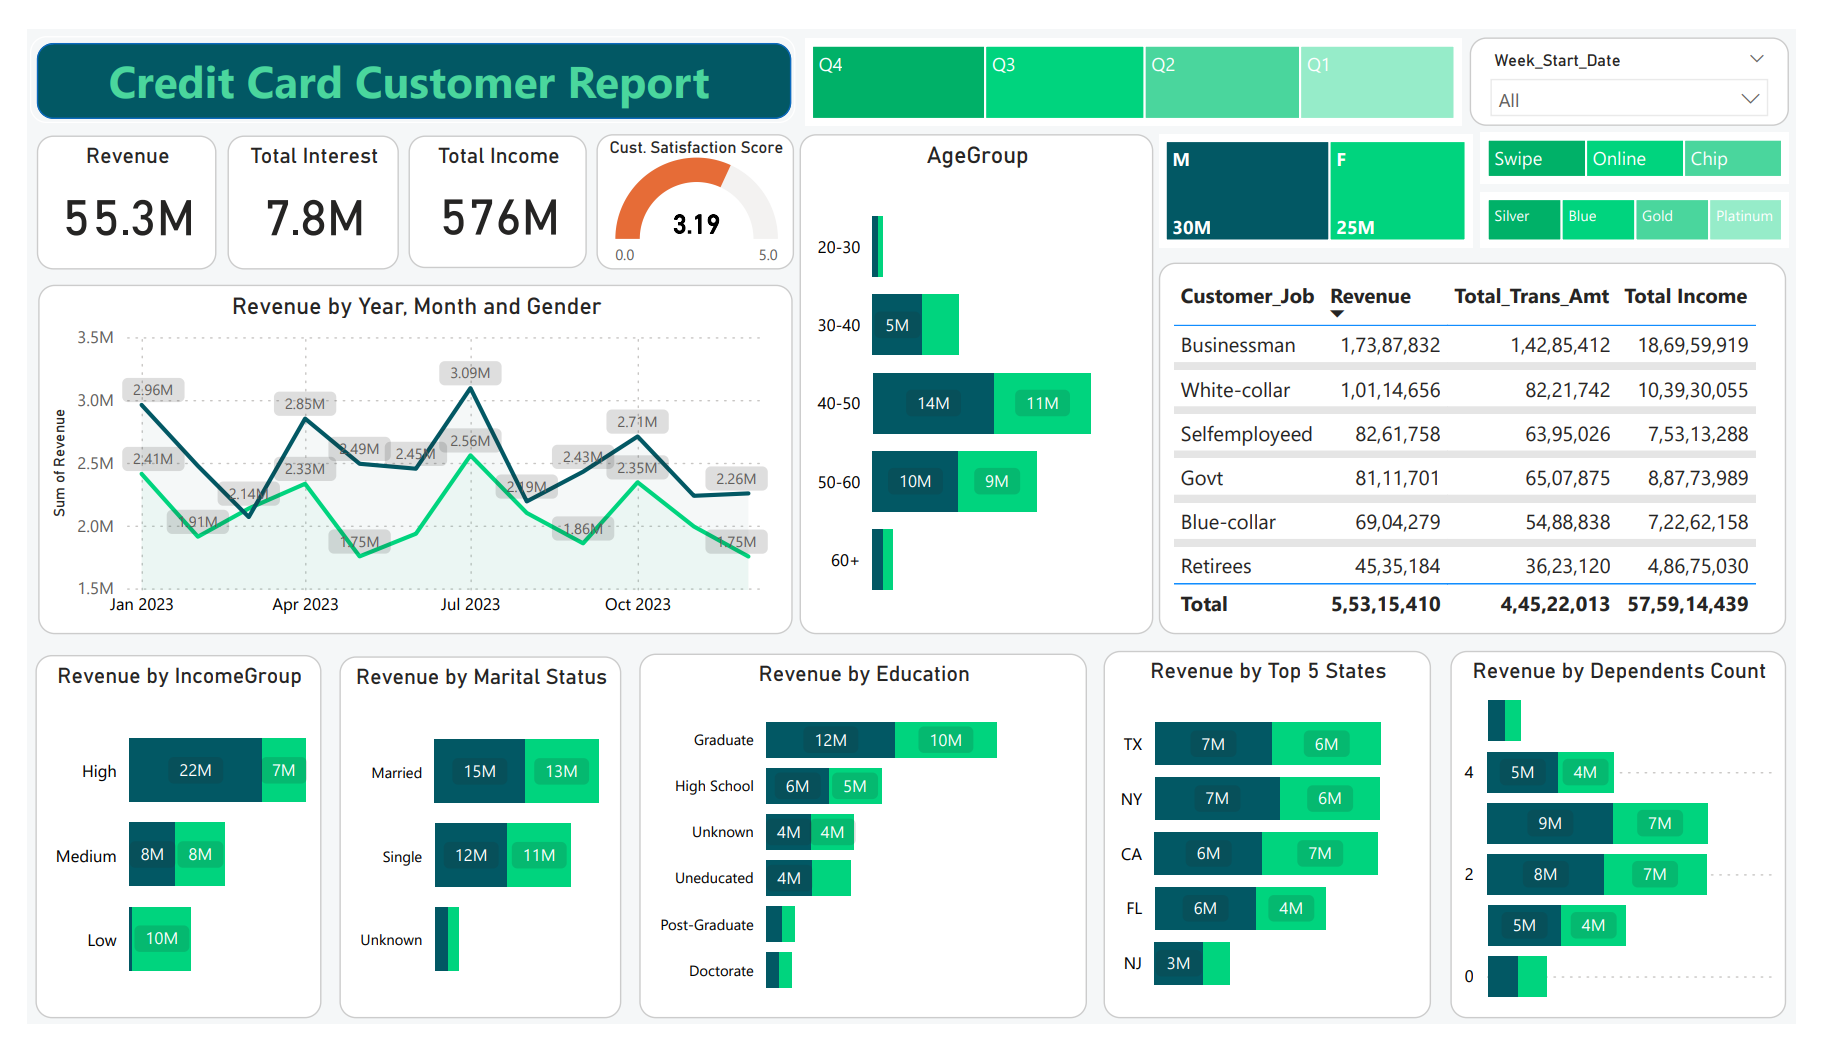

The dashboard page shown, as its layout file describes it:
{"tool":"powerbi","page":{"name":"Customer Report ","canvas":[1280,720],"ordinal":1},"visuals":[{"type":"card","title":"Revenue","fields":{"Values":["Sum(credit_card.Revenue)"]},"box":[7.3,76.6,130.1,97.3],"z":0},{"type":"tableEx","fields":{"Values":["customer.Customer_Job","Sum(credit_card.Revenue)","Sum(credit_card.Total_Trans_Amt)","Sum(customer.Income)"]},"box":[818.8,168.8,453.8,268.8],"z":1000},{"type":"treemap","fields":{"Group":["credit_card.Qtr"],"Values":["Avg(credit_card.Client_Num)"]},"box":[562.8,7,475.6,62.8],"z":2000},{"type":"barChart","title":"Revenue by IncomeGroup","fields":{"Category":["customer.IncomeGroup"],"Y":["Sum(credit_card.Revenue)"],"Series":["customer.Gender"]},"box":[5.6,452.8,207.2,263.3],"z":3000},{"type":"slicer","fields":{"Values":["credit_card.Week_Start_Date"]},"box":[1043.5,5.9,231.8,64.1],"z":4000},{"type":"card","title":"Total Interest","fields":{"Values":["Sum(credit_card.Interest_Earned)"]},"box":[145.3,76.7,123.3,97],"z":5000},{"type":"card","title":"Total Income","fields":{"Values":["Sum(customer.Income)"]},"box":[275.6,76.7,129.1,96.5],"z":6000},{"type":"treemap","fields":{"Group":["credit_card.Use Chip"],"Values":["Avg(credit_card.Client_Num)"]},"box":[1051.5,75.4,223.8,36.9],"z":7000},{"type":"treemap","fields":{"Group":["credit_card.Card_Category"],"Values":["Avg(credit_card.Client_Num)"]},"box":[1051.5,117.7,223.8,40],"z":8000},{"type":"gauge","title":"Cust. Satisfaction Score","fields":{"Y":["Avg(customer.Cust_Satisfaction_Score)"]},"box":[412.1,76.4,142.9,97.1],"z":9000},{"type":"areaChart","title":"Revenue by Year, Month and Gender","fields":{"Category":["credit_card.Week_Start_Date.Variation.Date Hierarchy.Year","credit_card.Week_Start_Date.Variation.Date Hierarchy.Month","credit_card.Week_Start_Date.Variation.Date Hierarchy.Day"],"Y":["Sum(credit_card.Revenue)"],"Series":["customer.Gender"]},"box":[7.5,185,546.2,252.5],"z":10000},{"type":"treemap","fields":{"Group":["customer.Gender"],"Values":["Sum(credit_card.Revenue)"]},"box":[818.8,76.2,227.5,81.2],"z":11000},{"type":"barChart","title":"AgeGroup","fields":{"Category":["customer.AgeGroup"],"Y":["Sum(credit_card.Revenue)"],"Series":["customer.Gender"]},"box":[558.8,76.2,256.2,361.2],"z":12000},{"type":"barChart","title":"Revenue by Marital Status","fields":{"Y":["Sum(credit_card.Revenue)"],"Series":["customer.Gender"],"Category":["customer.Marital_Status"]},"box":[226.2,453.8,203.8,262.5],"z":13000},{"type":"barChart","title":"Revenue by Education","fields":{"Y":["Sum(credit_card.Revenue)"],"Series":["customer.Gender"],"Category":["customer.Education_Level"]},"box":[443.3,452.2,323.3,263.9],"z":14000},{"type":"barChart","title":"Revenue by Top 5 States","fields":{"Y":["Sum(credit_card.Revenue)"],"Series":["customer.Gender"],"Category":["customer.state_cd"]},"box":[779.4,450,236.7,265.6],"z":15000},{"type":"barChart","title":"Revenue by Dependents Count","fields":{"Y":["Sum(credit_card.Revenue)"],"Series":["customer.Gender"],"Category":["customer.Dependent_Count"]},"box":[1030,450.5,242.9,265.7],"z":16000},{"type":"shape","box":[2.3,5.4,553.8,63.1],"z":17000},{"type":"textbox","box":[53.8,10,453.8,57.7],"z":18000}]}

Visuals, with their boxes in screenshot pixels (x1, y1, x2, y2), scaled from the page's 1280x720 canvas onto the 1824x1051 screenshot:
"Revenue" card: BBox(10, 112, 196, 254)
tableEx - customer.Customer_Job x Sum(credit_card.Revenue): BBox(1167, 246, 1813, 639)
treemap - credit_card.Qtr x Avg(credit_card.Client_Num): BBox(802, 10, 1480, 102)
"Revenue by IncomeGroup" barChart: BBox(8, 661, 303, 1045)
slicer - credit_card.Week_Start_Date: BBox(1487, 9, 1817, 102)
"Total Interest" card: BBox(207, 112, 383, 254)
"Total Income" card: BBox(393, 112, 577, 253)
treemap - credit_card.Use Chip x Avg(credit_card.Client_Num): BBox(1498, 110, 1817, 164)
treemap - credit_card.Card_Category x Avg(credit_card.Client_Num): BBox(1498, 172, 1817, 230)
"Cust. Satisfaction Score" gauge: BBox(587, 112, 791, 253)
"Revenue by Year, Month and Gender" areaChart: BBox(11, 270, 789, 639)
treemap - customer.Gender x Sum(credit_card.Revenue): BBox(1167, 111, 1491, 230)
"AgeGroup" barChart: BBox(796, 111, 1161, 638)
"Revenue by Marital Status" barChart: BBox(322, 662, 613, 1046)
"Revenue by Education" barChart: BBox(632, 660, 1092, 1045)
"Revenue by Top 5 States" barChart: BBox(1111, 657, 1448, 1045)
"Revenue by Dependents Count" barChart: BBox(1468, 658, 1814, 1045)
shape: BBox(3, 8, 792, 100)
textbox: BBox(77, 15, 723, 99)
